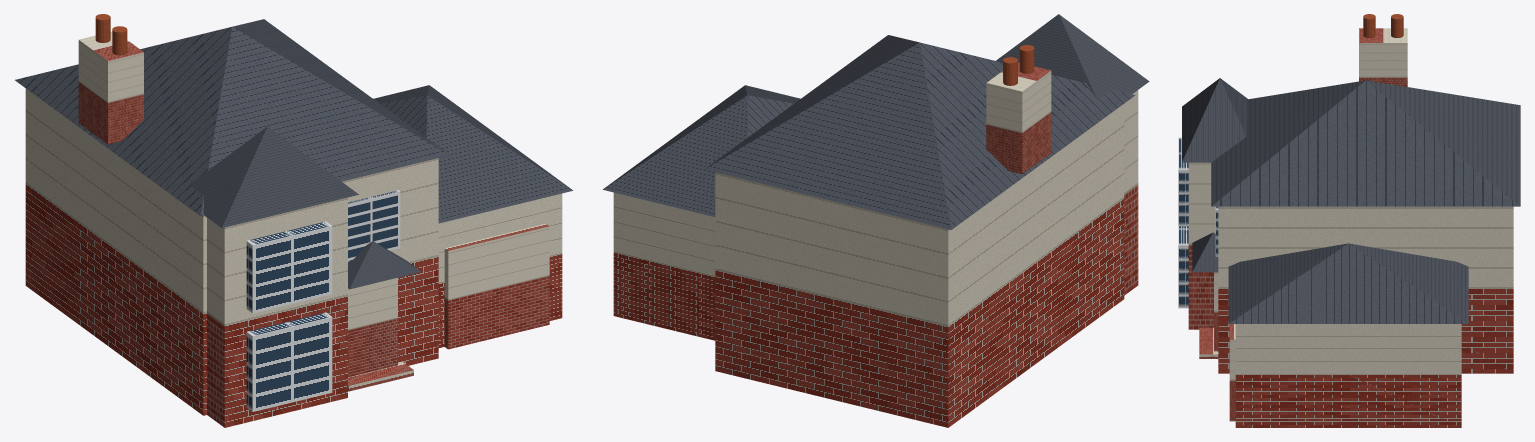
Rendered from house_large_01_suburban_detached.glb.
The picture shows the model from 3 angles, left to right: view 1: azimuth 30°, elevation 25°; view 2: azimuth 150°, elevation 25°; view 3: azimuth 270°, elevation 25°; orthographic projection. The views are drawn at different scales.
Parts seen in each view (by area): view 1: House_Large_01_Suburban_Detached; view 2: House_Large_01_Suburban_Detached; view 3: House_Large_01_Suburban_Detached.
Part boxes in pixels (<box>): House_Large_01_Suburban_Detached: <box>15,14,572,427</box>; House_Large_01_Suburban_Detached: <box>603,14,1149,427</box>; House_Large_01_Suburban_Detached: <box>1178,14,1520,427</box>.
Size of the model in its own units: 10.7 by 8.4 by 9.85.
Materials: 1 (1 with a texture image).
